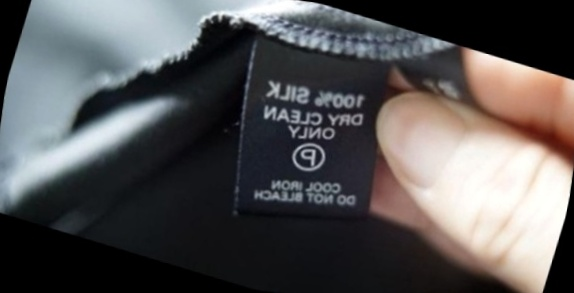dry_clean_any_solvent_except_trichloroethylene: (283, 133, 332, 179)
